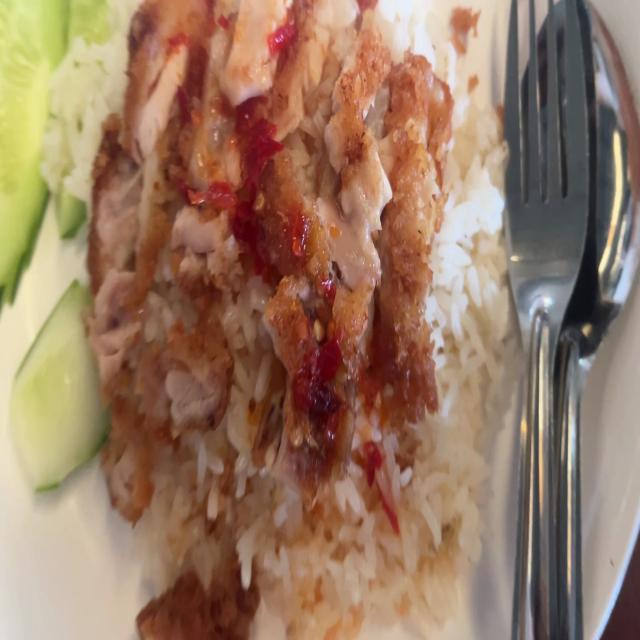chicken_rice: (0, 0, 513, 640)
cucumber: (0, 0, 115, 302), (14, 277, 116, 495)
fried_chicken: (100, 1, 436, 528), (136, 546, 257, 640)
